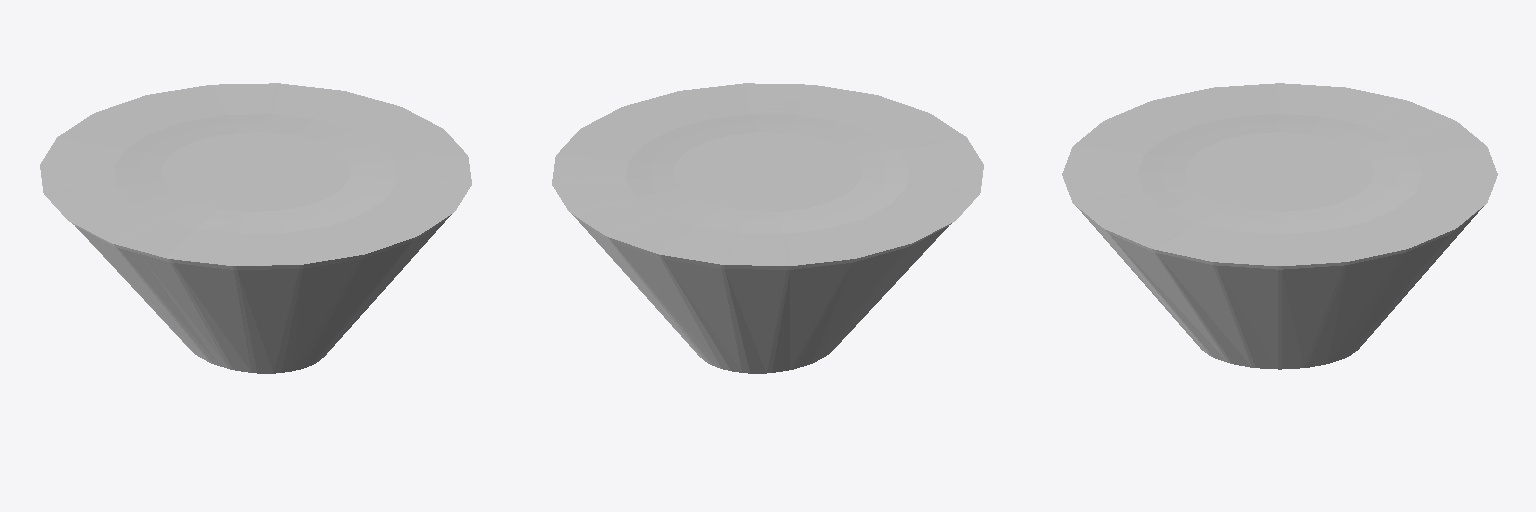
File: island_base_2.obj
3 renders of one model, left to right at view 1: azimuth 30°, elevation 25°; view 2: azimuth 150°, elevation 25°; view 3: azimuth 270°, elevation 25°, orthographic.
Visible parts, largest first — view 1: pCylinder1; view 2: pCylinder1; view 3: pCylinder1.
Part boxes in pixels (left/top/right/bottom): pCylinder1: left=40, top=83, right=471, bottom=373; pCylinder1: left=552, top=83, right=983, bottom=373; pCylinder1: left=1062, top=83, right=1497, bottom=369.
Bounding box in the file's own units: 1166 × 499 × 1172.